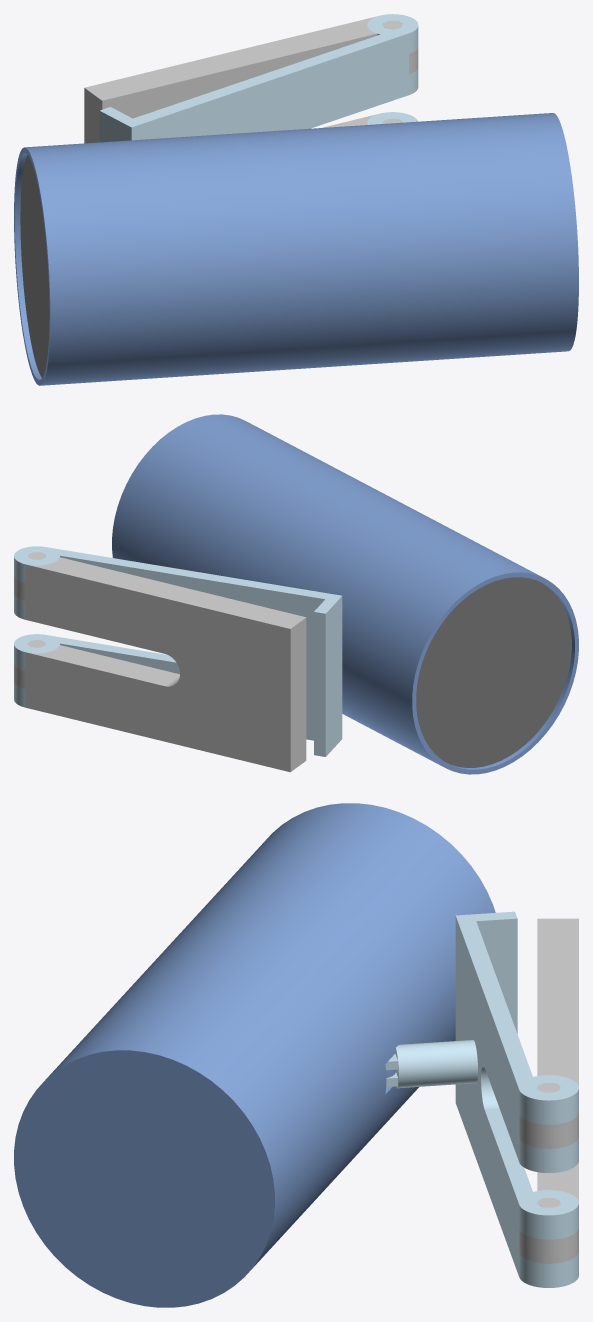
File: Camera.gltf
3 renders of one model, top to bottom at view 1: azimuth 30°, elevation 25°; view 2: azimuth 150°, elevation 25°; view 3: azimuth 270°, elevation 25°, orthographic. The views are drawn at different scales.
Parts seen in each view (by area): view 1: Part 3, Part 1, Part 2; view 2: Part 3, Part 2, Part 1; view 3: Part 3, Part 1, Part 2.
Part boxes in pixels (left/top/right/bottom): Part 3: left=14, top=113, right=578, bottom=385; Part 1: left=99, top=14, right=418, bottom=142; Part 2: left=84, top=16, right=418, bottom=143; Part 3: left=112, top=414, right=578, bottom=774; Part 2: left=14, top=552, right=306, bottom=772; Part 1: left=14, top=546, right=342, bottom=756; Part 3: left=14, top=803, right=495, bottom=1307; Part 1: left=385, top=911, right=578, bottom=1287; Part 2: left=519, top=918, right=578, bottom=1263.
Bounding box in the file's own units: 0.1028 × 0.042 × 0.0846.
